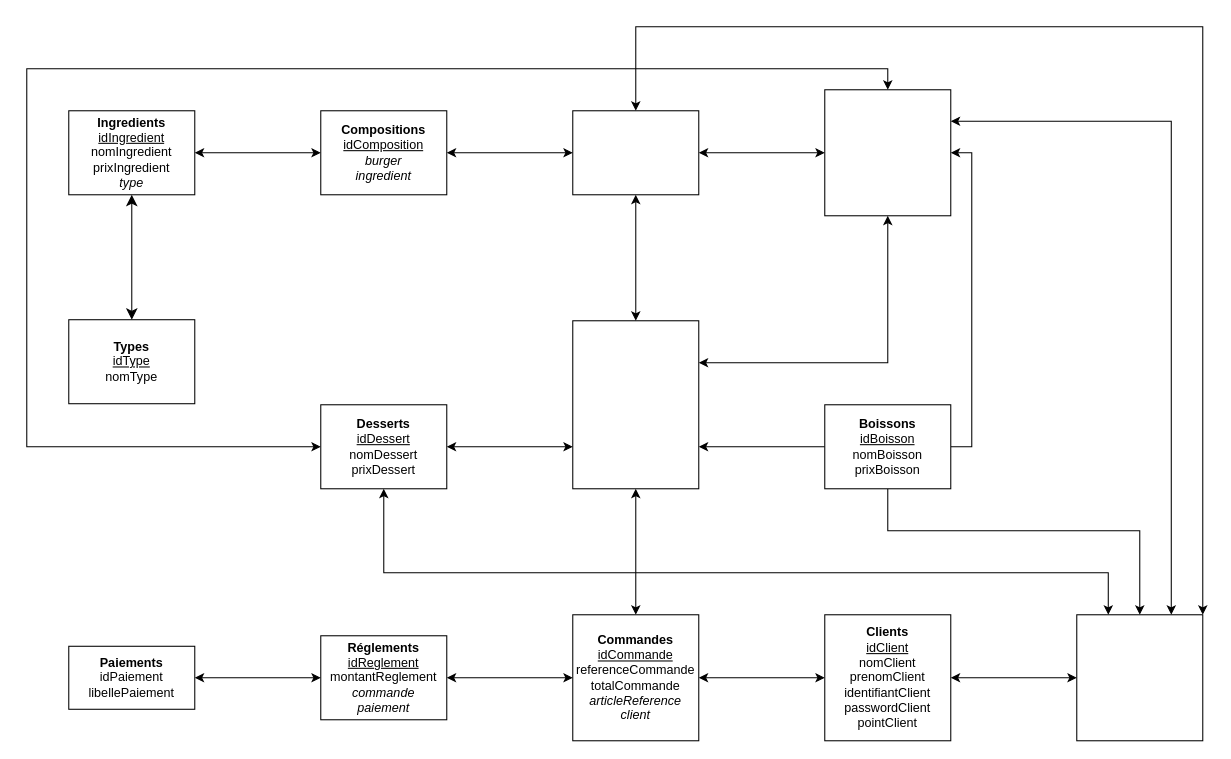
Image size: 1231x759. Some labels were removed from this diagram. The box of each missing label's shape, as (x1, y1, x2, y2) in pixels:
Articles idArticle referenceArticle burger boisson dessert menu: (572, 320, 699, 489)
Burgers idBurger nomBurger prixBurger: (572, 110, 699, 195)
Menu idMenu prixMenu nomMenu burger boisson dessert: (824, 89, 951, 216)
Offre idOffre client boisson dessert burger menu: (1076, 614, 1203, 741)
